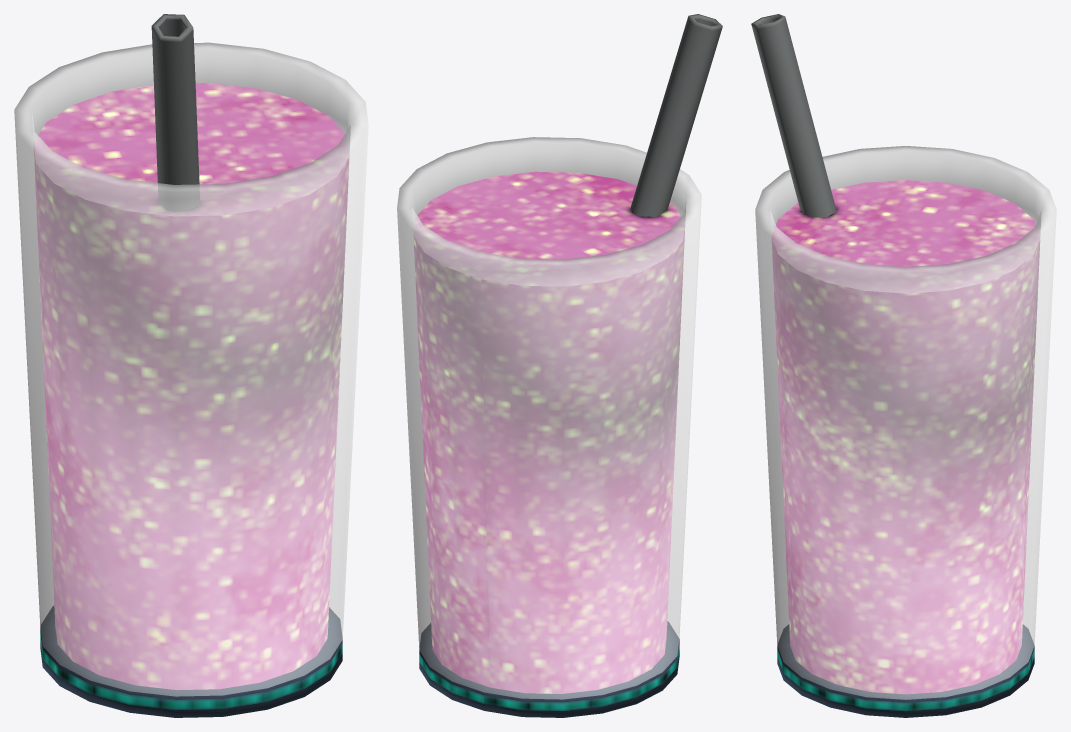
The model's file is Smoothie.fbx.
3 renders of one model, left to right at view 1: azimuth 30°, elevation 25°; view 2: azimuth 150°, elevation 25°; view 3: azimuth 270°, elevation 25°, orthographic. The views are drawn at different scales.
Visible parts, largest first — view 1: Smoothie; view 2: Smoothie; view 3: Smoothie.
Part boxes in pixels (x1,y1,x2,y2): Smoothie: (14,14,368,717); Smoothie: (397,14,722,717); Smoothie: (751,14,1056,717).
Bounding box in the file's own units: 16.98 × 37.67 × 17.21.
2 materials, 1 textured.
